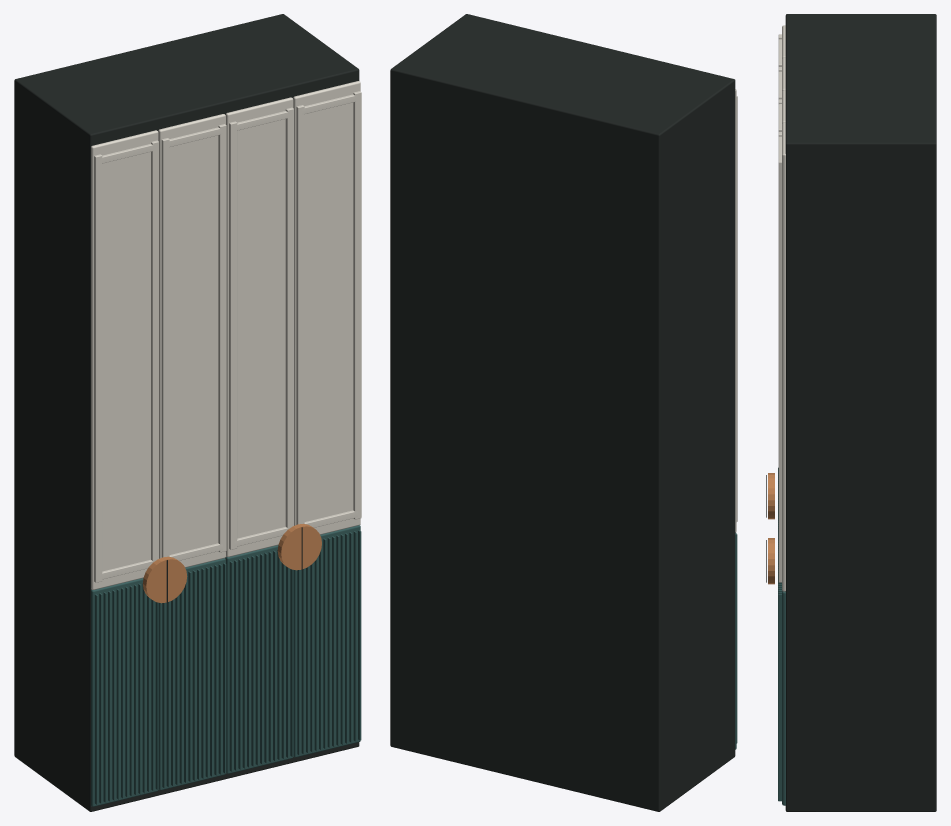
Rendered from cream-teal-wardrobe.glb.
3 views of the same model, side by side, from view 1: azimuth 30°, elevation 25°; view 2: azimuth 150°, elevation 25°; view 3: azimuth 270°, elevation 25° (orthographic).
Parts seen in each view (by area): view 1: Cream shaker door, Carcass, Teal lower door, Terracotta round paired pull; view 2: Carcass, Cream shaker door, Teal lower door; view 3: Carcass, Cream shaker door, Teal lower door, Terracotta round paired pull.
Part boxes in pixels (<box>): Cream shaker door: <box>91,81,361,589</box>; Carcass: <box>14,14,359,811</box>; Teal lower door: <box>91,525,361,806</box>; Terracotta round paired pull: <box>142,523,321,603</box>; Carcass: <box>390,14,735,811</box>; Cream shaker door: <box>735,89,737,532</box>; Teal lower door: <box>735,533,737,749</box>; Carcass: <box>766,14,936,811</box>; Cream shaker door: <box>778,25,785,591</box>; Teal lower door: <box>778,467,785,805</box>; Terracotta round paired pull: <box>768,473,774,584</box>.
Bounding box in the file's own units: 1.12 × 2.69 × 0.6205.
